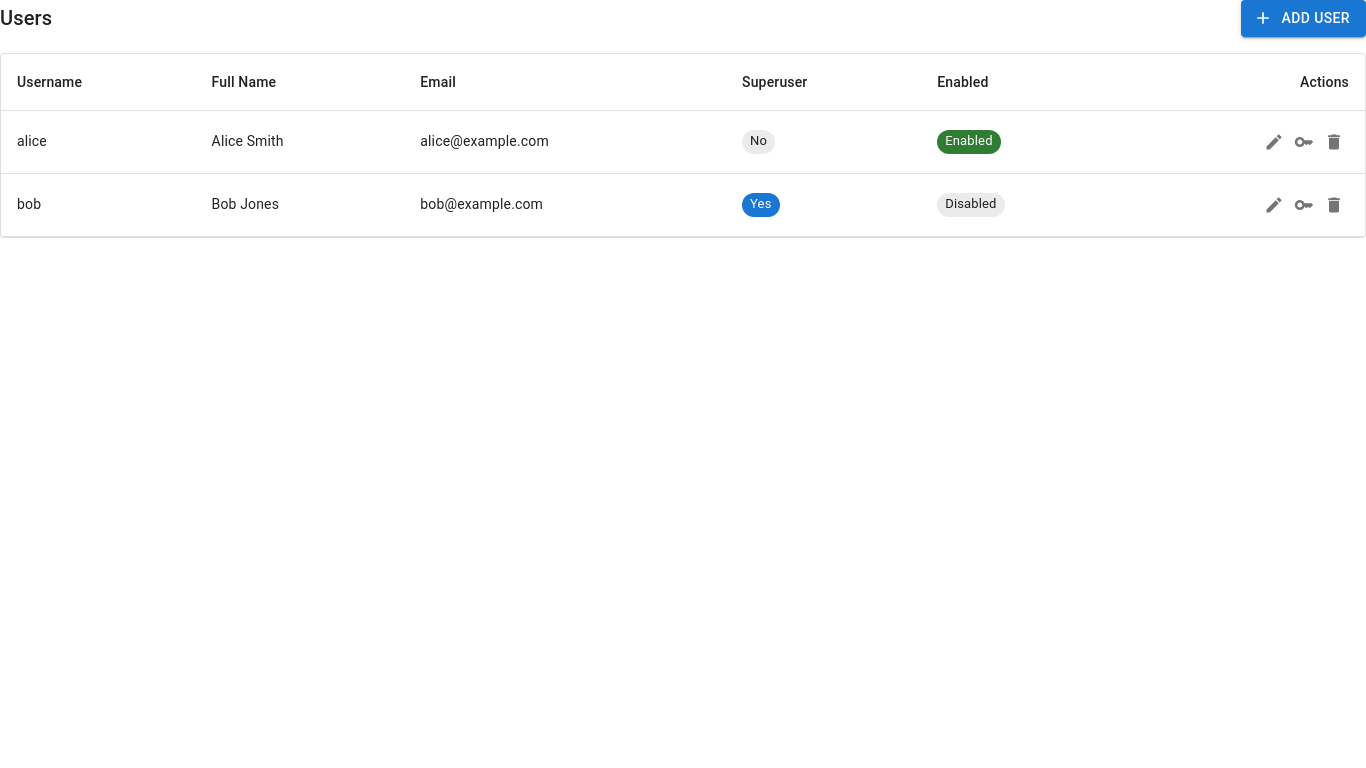
AdminUsers › clicking edit icon opens edit dialog
Expected: the text "alice" is shown, [1, 110, 196, 173]
Click the button named "edit alice" at (1274, 142), box [1259, 126, 1289, 156]
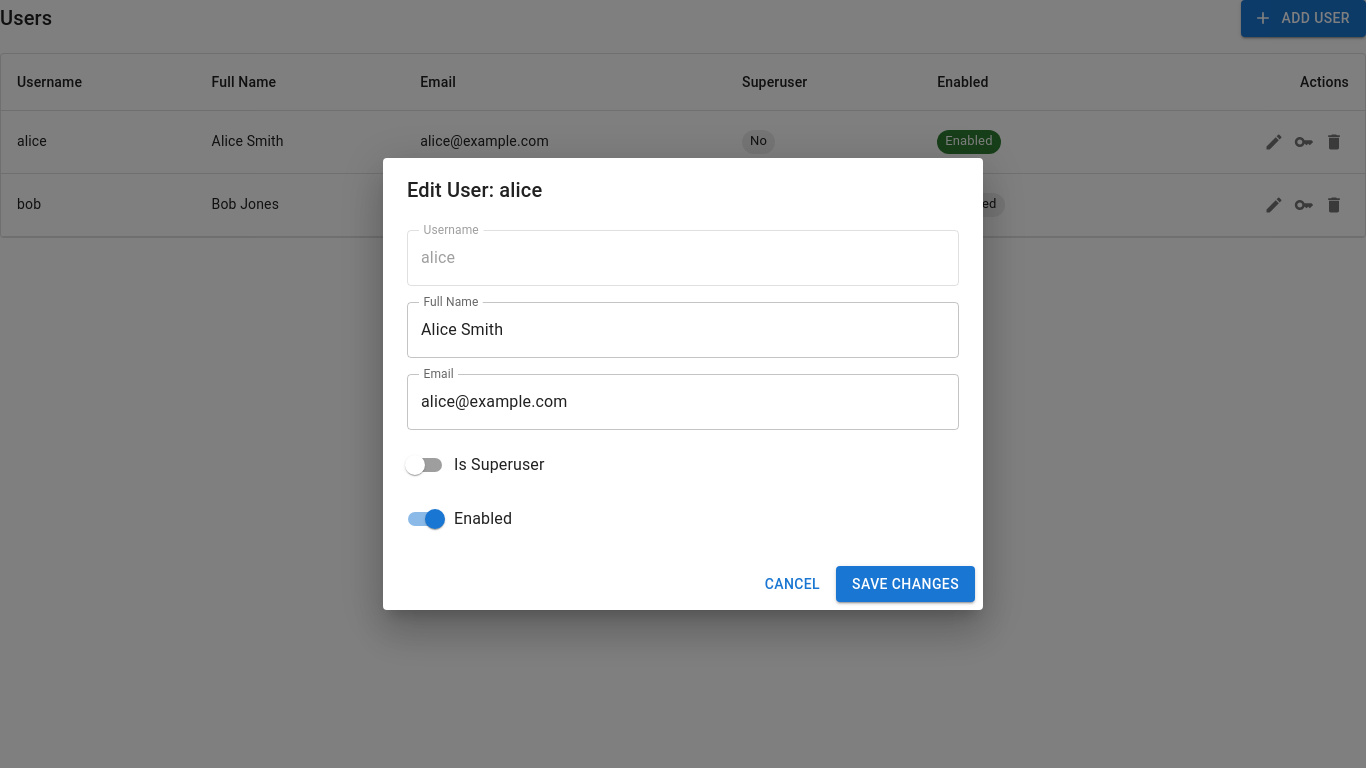
Now the dialog "Edit User" is shown, box [383, 158, 983, 610]
